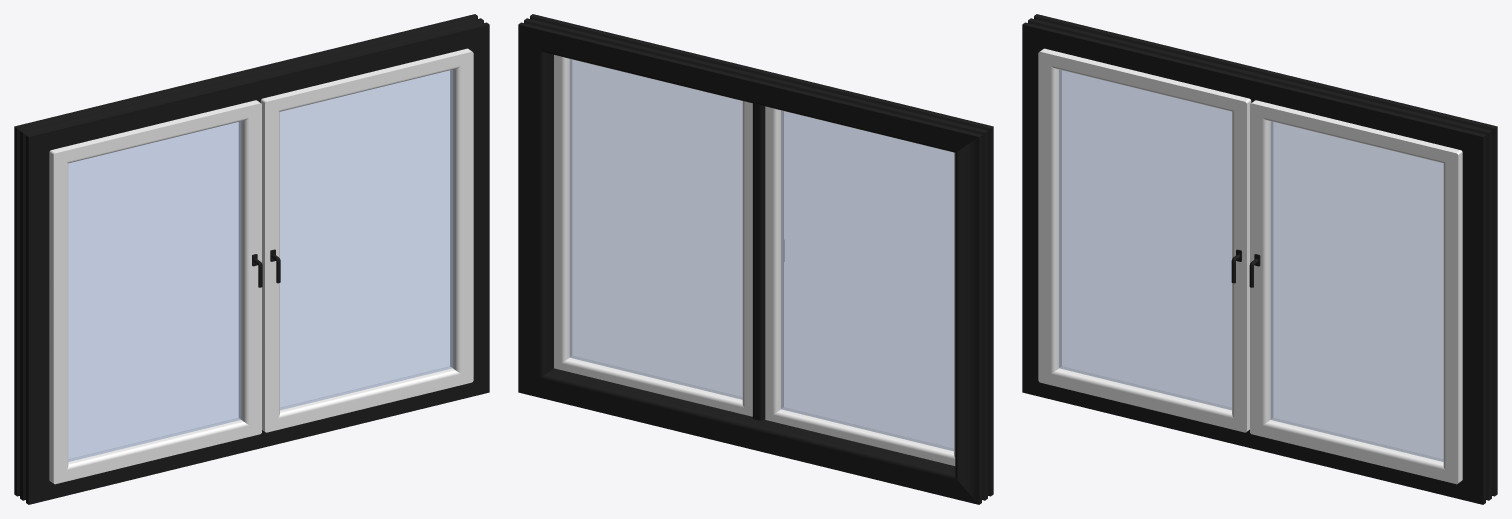
Rendered from window.fbx.
The picture shows the model from 3 angles, left to right: view 1: azimuth 30°, elevation 25°; view 2: azimuth 150°, elevation 25°; view 3: azimuth 330°, elevation 25°; orthographic projection.
Parts seen in each view (by area): view 1: levo_krilo, desno_krilo, _tok; view 2: desno_krilo, _tok, levo_krilo; view 3: desno_krilo, levo_krilo, _tok.
Boxes of the visible parts, <box> form: levo_krilo: <box>49,100,262,484</box>; desno_krilo: <box>260,48,473,432</box>; _tok: <box>14,14,489,504</box>; desno_krilo: <box>554,55,752,416</box>; _tok: <box>518,14,993,504</box>; levo_krilo: <box>765,106,955,465</box>; desno_krilo: <box>1249,100,1462,484</box>; levo_krilo: <box>1038,48,1251,432</box>; _tok: <box>1022,14,1497,504</box>.
Size of the model in its own units: 4.99 by 3.81 by 0.4776.
